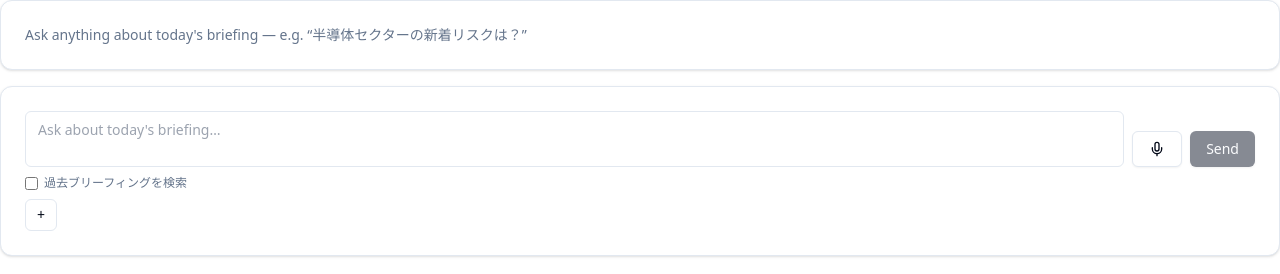
Test case: ChatForm › preserves the already-typed text when the mic starts
Type "前段の文字列" into the text box with test id "chat-input" at (575, 139), box x1=25 y1=111 x2=1124 y2=167
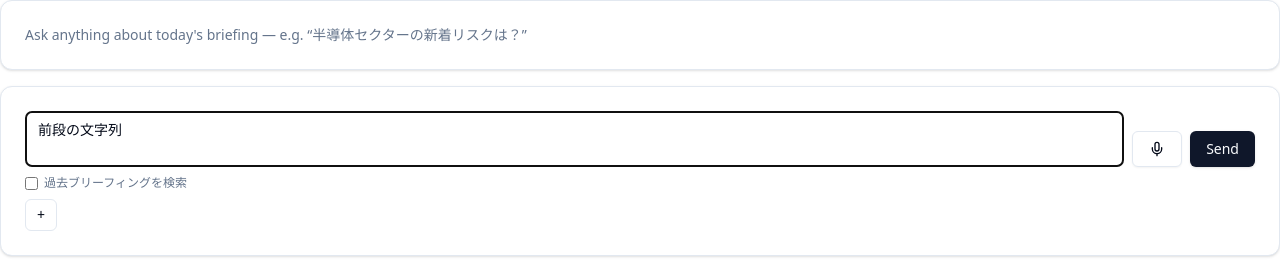
Click the button with test id "mic-button" at (1157, 149), box x1=1132 y1=131 x2=1182 y2=167
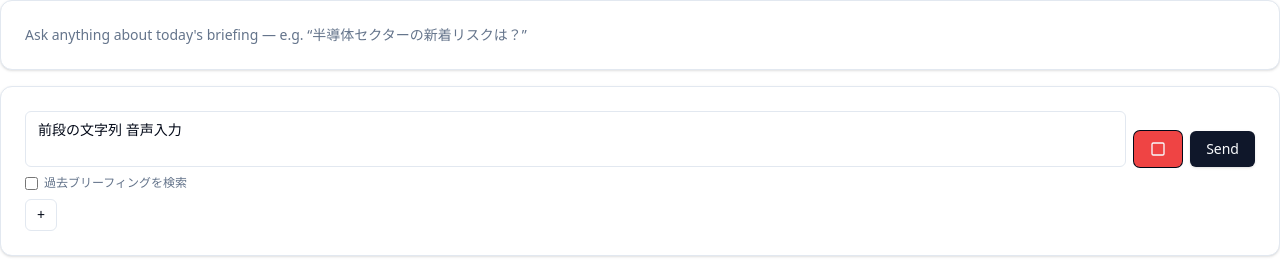
Now the text box with test id "chat-input" holds "前段の文字列 音声入力", box x1=25 y1=111 x2=1126 y2=167
